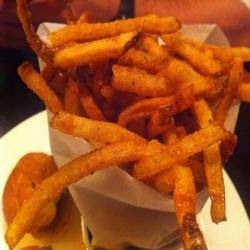fries: (41, 23, 236, 204)
